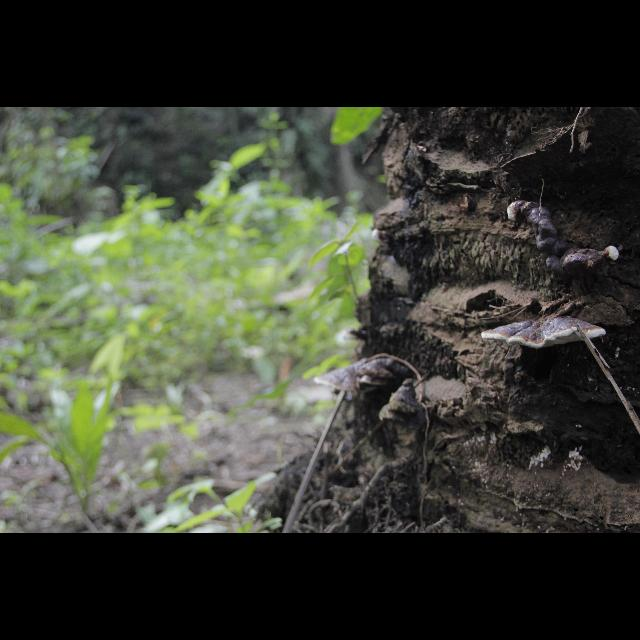ganoderma: (523, 200, 605, 279), (481, 313, 607, 352), (315, 358, 380, 393), (357, 357, 411, 390), (344, 330, 369, 342)
primordium: (372, 229, 393, 245), (508, 201, 523, 223), (605, 245, 621, 263)
